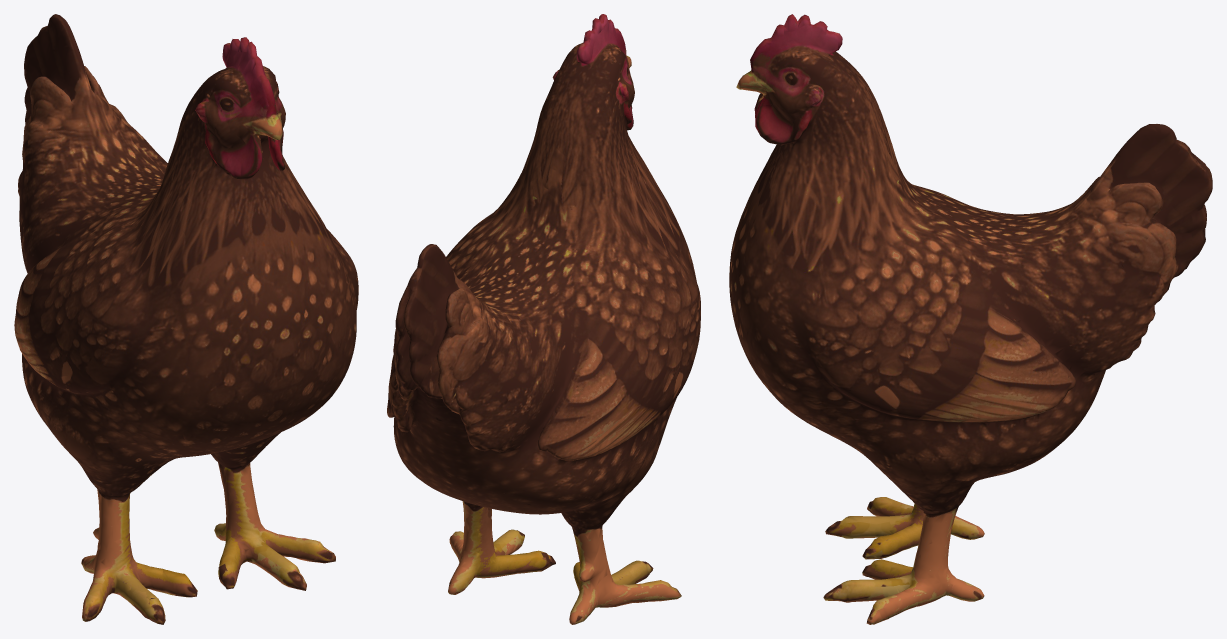
Rendered from gallina_colorada.glb.
The picture shows the model from 3 angles, left to right: view 1: azimuth 30°, elevation 25°; view 2: azimuth 150°, elevation 25°; view 3: azimuth 270°, elevation 25°; orthographic projection. The views are drawn at different scales.
Visible parts, largest first — view 1: gallina_colorada; view 2: gallina_colorada; view 3: gallina_colorada.
Part boxes in pixels (bbox=[...]): gallina_colorada: bbox=[14, 14, 358, 624]; gallina_colorada: bbox=[387, 14, 700, 624]; gallina_colorada: bbox=[729, 14, 1212, 624].
Size of the model in its own units: 0.2024 by 0.42 by 0.3314.
Materials: 1 (1 with a texture image).
